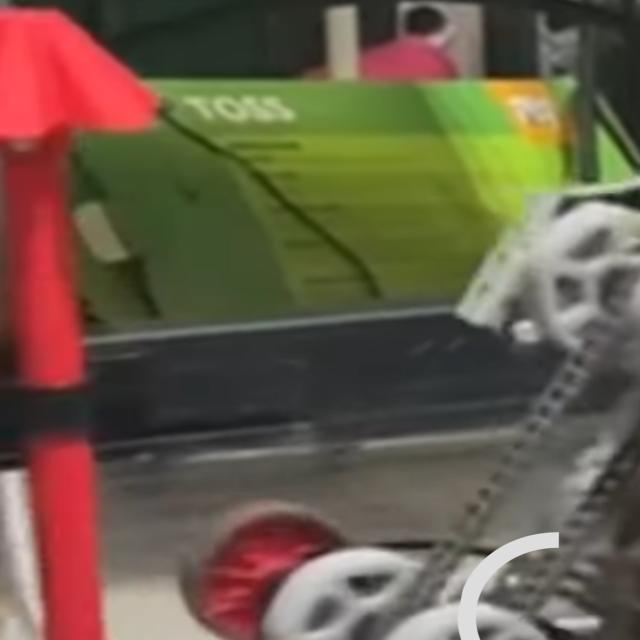zred-Stake-Head: (0, 9, 153, 138)
